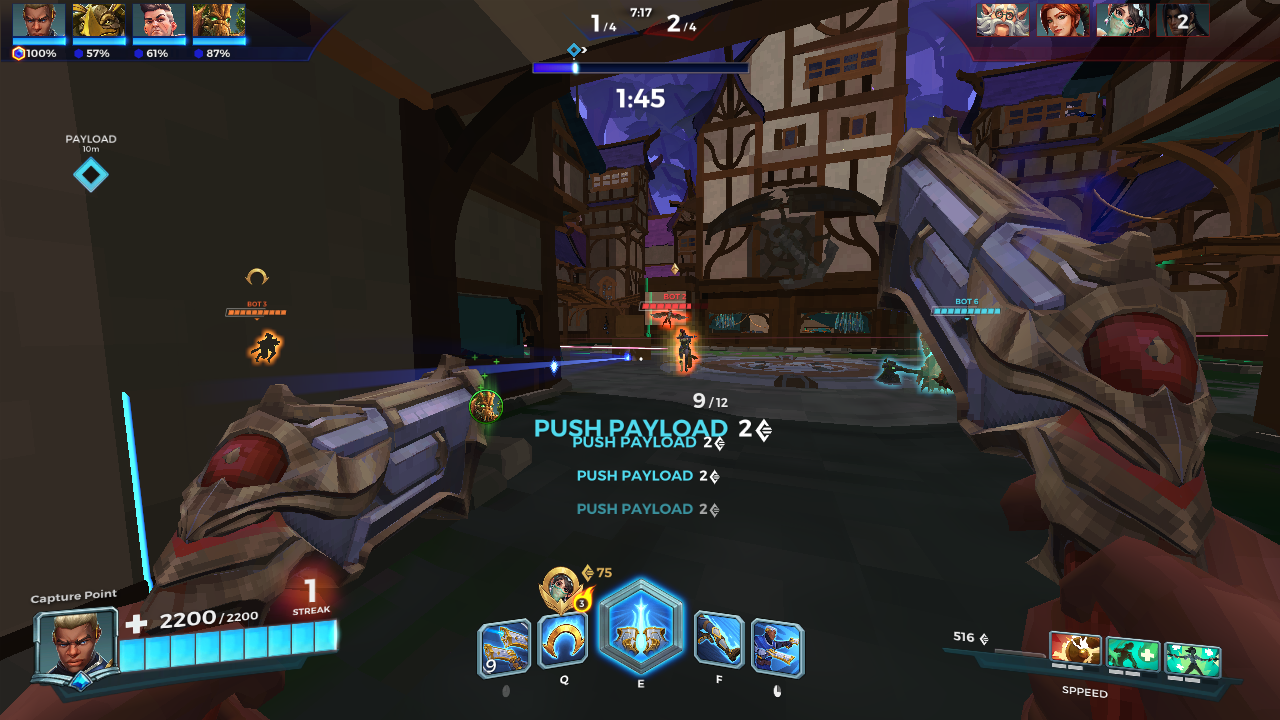model: (671, 322, 699, 379), (252, 325, 285, 366)
